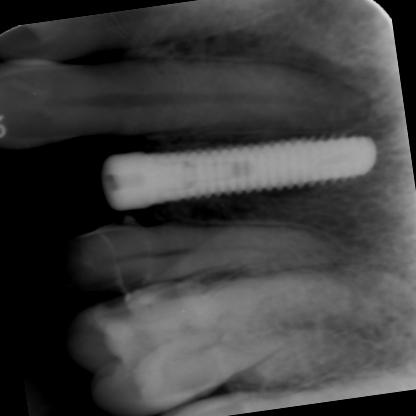Bego: (137, 130, 381, 208)
